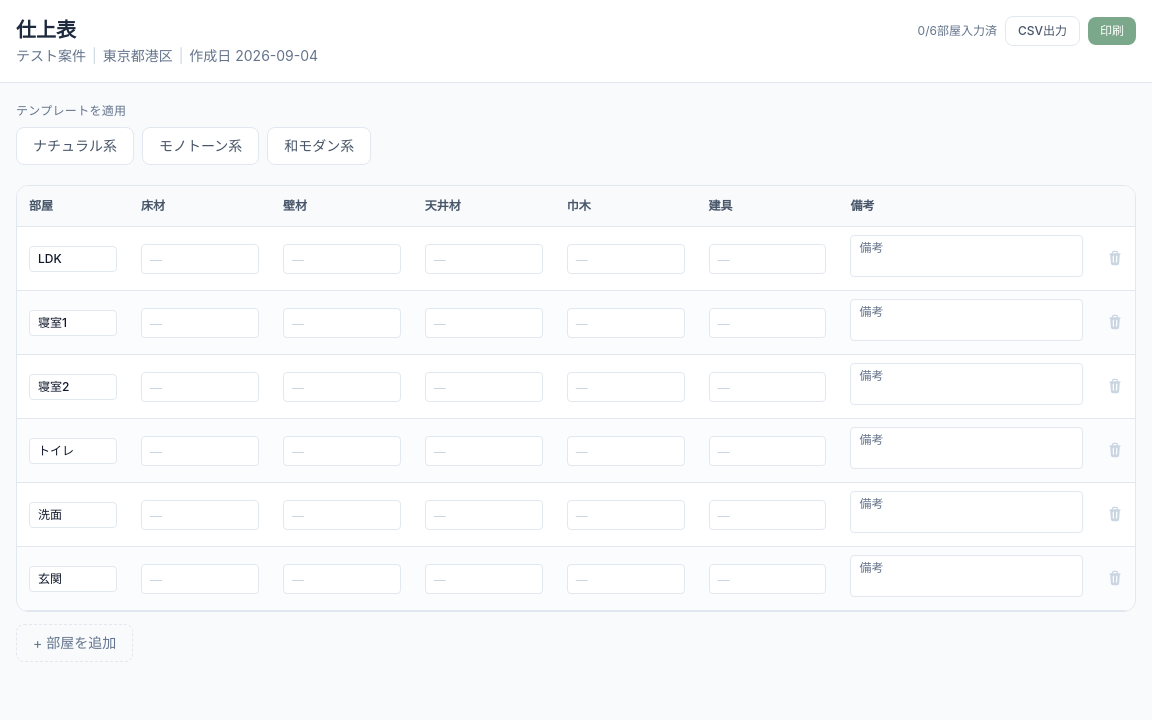
Test: FinishingSchedulePage — テンプレート › 和モダン系テンプレートを適用すると琉球畳が表示される
Click the button with test id "template-和モダン系".
click(319, 146)  # box [267, 127, 371, 165]
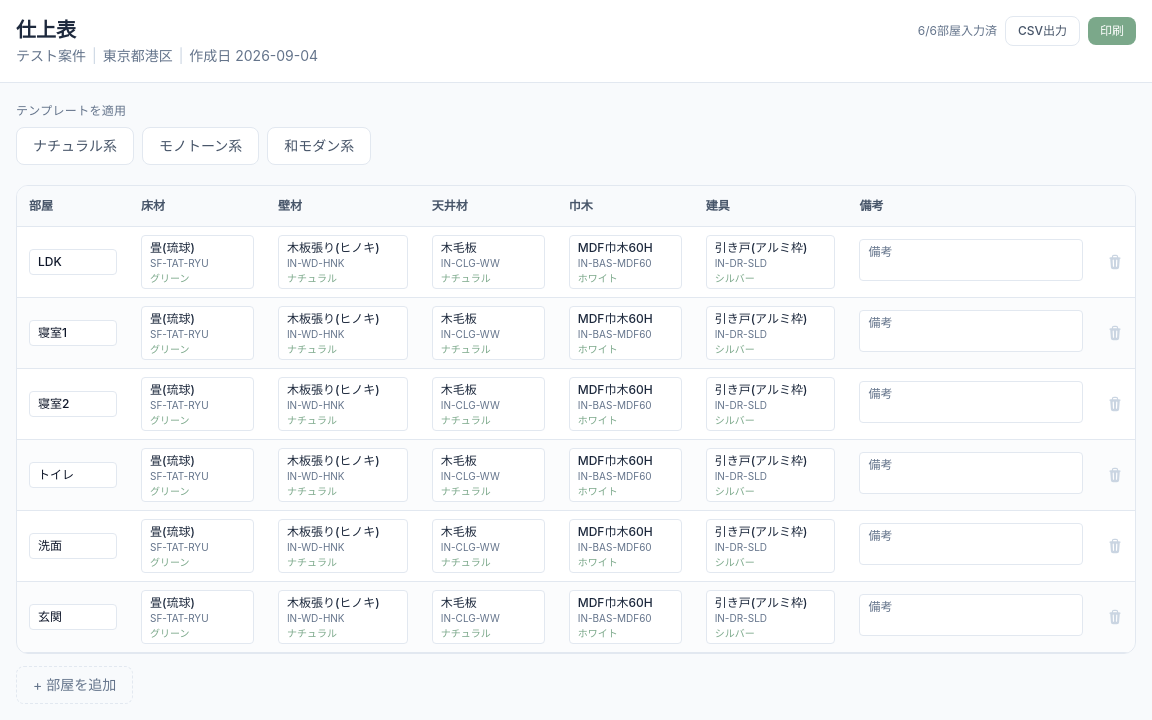
expect the 1st text "畳(琉球)" is shown: met, box [150, 240, 195, 255]
